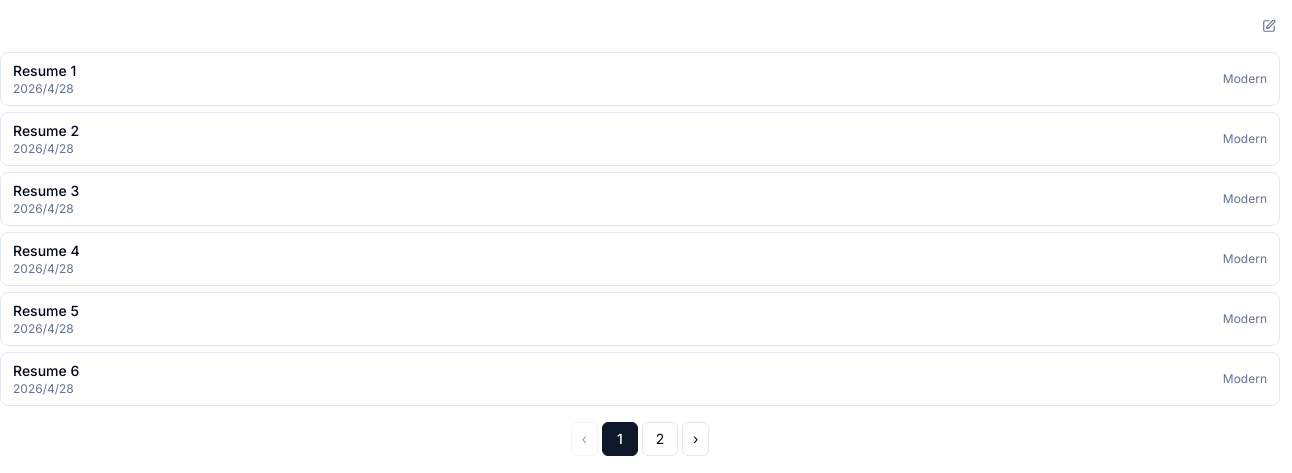
Scenario: ResumeList — pagination › clicking page 2 shows items 7-9
This screenshot has width=1292, height=473.
Click the button named "Next page" at (696,439), box x1=682 y1=422 x2=709 y2=456
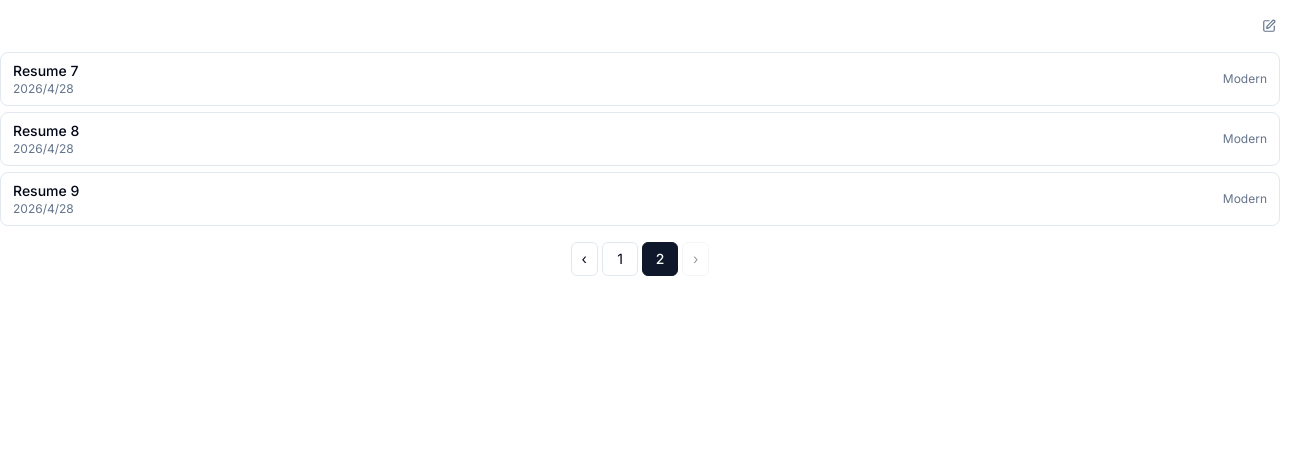
Result: the text "Resume 7" is shown at x1=13 y1=61 x2=78 y2=81
Result: the link "Resume 1" is gone
